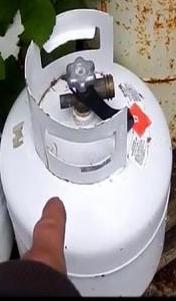cylinder: (1, 0, 176, 301)
